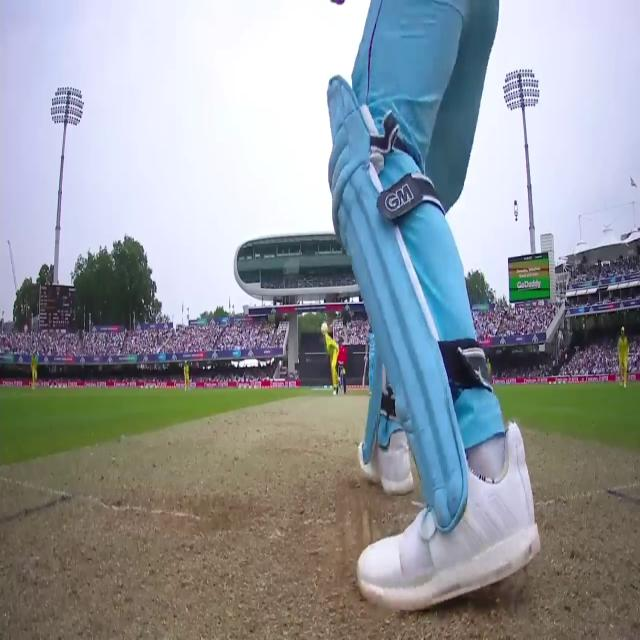ball: (318, 318, 330, 337)
